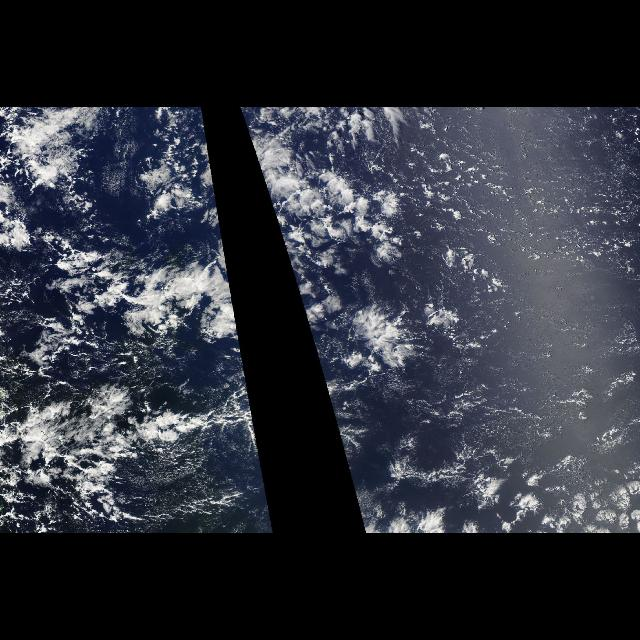Fish: (13, 192, 270, 526)
Sugar: (450, 110, 640, 272)
